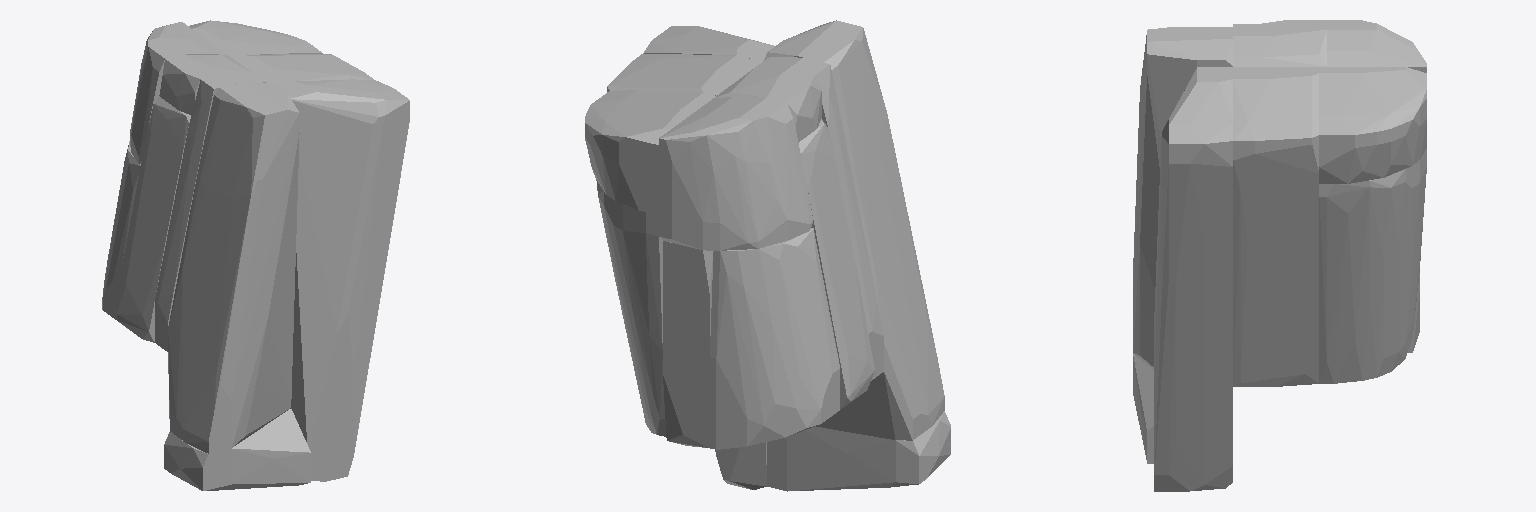
The robot description file, URDF, robot "root":
<robot name="root">
  <link name="link_thingiverse~part_3798626_convex_piece_0">
    <inertial>
      <origin rpy="0 0 0" xyz="0 0 0"/>
      <mass value="5.24E-02"/>
      <inertia ixx="4.52E-05" ixy="-8.72E-06" ixz="1.14E-07" iyy="4.70E-05" iyz="4.52E-06" izz="2.07E-05"/>
    </inertial>
    <visual>
      <origin rpy="0 0 0" xyz="0 0 0"/>
      <geometry>
        <mesh filename="thingiverse~part_3798626_convex_piece_0.obj" scale="1.0000E+00 1.0000E+00 1.0000E+00"/>
      </geometry>
      <material name="">
        <color rgba="7.50E-01 7.50E-01 7.50E-01 1"/>
      </material>
    </visual>
    <collision>
      <origin rpy="0 0 0" xyz="0 0 0"/>
      <geometry>
        <mesh filename="thingiverse~part_3798626_convex_piece_0.obj" scale="1.0000E+00 1.0000E+00 1.0000E+00"/>
      </geometry>
    </collision>
  </link>
  <link name="link_thingiverse~part_3798626_convex_piece_1">
    <inertial>
      <origin rpy="0 0 0" xyz="0 0 0"/>
      <mass value="1.24E-02"/>
      <inertia ixx="3.08E-05" ixy="2.68E-06" ixz="7.21E-06" iyy="3.01E-05" iyz="9.37E-06" izz="6.51E-06"/>
    </inertial>
    <visual>
      <origin rpy="0 0 0" xyz="0 0 0"/>
      <geometry>
        <mesh filename="thingiverse~part_3798626_convex_piece_1.obj" scale="1.0000E+00 1.0000E+00 1.0000E+00"/>
      </geometry>
      <material name="">
        <color rgba="7.50E-01 7.50E-01 7.50E-01 1"/>
      </material>
    </visual>
    <collision>
      <origin rpy="0 0 0" xyz="0 0 0"/>
      <geometry>
        <mesh filename="thingiverse~part_3798626_convex_piece_1.obj" scale="1.0000E+00 1.0000E+00 1.0000E+00"/>
      </geometry>
    </collision>
  </link>
  <joint name="link_thingiverse~part_3798626_convex_piece_1_joint" type="fixed">
    <origin rpy="0 0 0" xyz="0 0 0"/>
    <parent link="link_thingiverse~part_3798626_convex_piece_0"/>
    <child link="link_thingiverse~part_3798626_convex_piece_1"/>
  </joint>
  <link name="link_thingiverse~part_3798626_convex_piece_2">
    <inertial>
      <origin rpy="0 0 0" xyz="0 0 0"/>
      <mass value="6.08E-02"/>
      <inertia ixx="4.52E-05" ixy="9.90E-06" ixz="6.19E-06" iyy="4.14E-05" iyz="3.74E-06" izz="2.45E-05"/>
    </inertial>
    <visual>
      <origin rpy="0 0 0" xyz="0 0 0"/>
      <geometry>
        <mesh filename="thingiverse~part_3798626_convex_piece_2.obj" scale="1.0000E+00 1.0000E+00 1.0000E+00"/>
      </geometry>
      <material name="">
        <color rgba="7.50E-01 7.50E-01 7.50E-01 1"/>
      </material>
    </visual>
    <collision>
      <origin rpy="0 0 0" xyz="0 0 0"/>
      <geometry>
        <mesh filename="thingiverse~part_3798626_convex_piece_2.obj" scale="1.0000E+00 1.0000E+00 1.0000E+00"/>
      </geometry>
    </collision>
  </link>
  <joint name="link_thingiverse~part_3798626_convex_piece_2_joint" type="fixed">
    <origin rpy="0 0 0" xyz="0 0 0"/>
    <parent link="link_thingiverse~part_3798626_convex_piece_1"/>
    <child link="link_thingiverse~part_3798626_convex_piece_2"/>
  </joint>
  <link name="link_thingiverse~part_3798626_convex_piece_3">
    <inertial>
      <origin rpy="0 0 0" xyz="0 0 0"/>
      <mass value="4.63E-02"/>
      <inertia ixx="2.02E-05" ixy="2.22E-06" ixz="5.38E-06" iyy="2.80E-05" iyz="1.48E-06" izz="1.15E-05"/>
    </inertial>
    <visual>
      <origin rpy="0 0 0" xyz="0 0 0"/>
      <geometry>
        <mesh filename="thingiverse~part_3798626_convex_piece_3.obj" scale="1.0000E+00 1.0000E+00 1.0000E+00"/>
      </geometry>
      <material name="">
        <color rgba="7.50E-01 7.50E-01 7.50E-01 1"/>
      </material>
    </visual>
    <collision>
      <origin rpy="0 0 0" xyz="0 0 0"/>
      <geometry>
        <mesh filename="thingiverse~part_3798626_convex_piece_3.obj" scale="1.0000E+00 1.0000E+00 1.0000E+00"/>
      </geometry>
    </collision>
  </link>
  <joint name="link_thingiverse~part_3798626_convex_piece_3_joint" type="fixed">
    <origin rpy="0 0 0" xyz="0 0 0"/>
    <parent link="link_thingiverse~part_3798626_convex_piece_2"/>
    <child link="link_thingiverse~part_3798626_convex_piece_3"/>
  </joint>
  <link name="link_thingiverse~part_3798626_convex_piece_4">
    <inertial>
      <origin rpy="0 0 0" xyz="0 0 0"/>
      <mass value="1.68E-02"/>
      <inertia ixx="6.30E-06" ixy="3.28E-07" ixz="-2.05E-07" iyy="8.62E-06" iyz="-1.26E-07" izz="2.56E-06"/>
    </inertial>
    <visual>
      <origin rpy="0 0 0" xyz="0 0 0"/>
      <geometry>
        <mesh filename="thingiverse~part_3798626_convex_piece_4.obj" scale="1.0000E+00 1.0000E+00 1.0000E+00"/>
      </geometry>
      <material name="">
        <color rgba="7.50E-01 7.50E-01 7.50E-01 1"/>
      </material>
    </visual>
    <collision>
      <origin rpy="0 0 0" xyz="0 0 0"/>
      <geometry>
        <mesh filename="thingiverse~part_3798626_convex_piece_4.obj" scale="1.0000E+00 1.0000E+00 1.0000E+00"/>
      </geometry>
    </collision>
  </link>
  <joint name="link_thingiverse~part_3798626_convex_piece_4_joint" type="fixed">
    <origin rpy="0 0 0" xyz="0 0 0"/>
    <parent link="link_thingiverse~part_3798626_convex_piece_3"/>
    <child link="link_thingiverse~part_3798626_convex_piece_4"/>
  </joint>
  <link name="link_thingiverse~part_3798626_convex_piece_5">
    <inertial>
      <origin rpy="0 0 0" xyz="0 0 0"/>
      <mass value="1.47E-02"/>
      <inertia ixx="2.10E-05" ixy="-2.56E-06" ixz="-2.99E-06" iyy="1.31E-05" iyz="9.77E-06" izz="1.05E-05"/>
    </inertial>
    <visual>
      <origin rpy="0 0 0" xyz="0 0 0"/>
      <geometry>
        <mesh filename="thingiverse~part_3798626_convex_piece_5.obj" scale="1.0000E+00 1.0000E+00 1.0000E+00"/>
      </geometry>
      <material name="">
        <color rgba="7.50E-01 7.50E-01 7.50E-01 1"/>
      </material>
    </visual>
    <collision>
      <origin rpy="0 0 0" xyz="0 0 0"/>
      <geometry>
        <mesh filename="thingiverse~part_3798626_convex_piece_5.obj" scale="1.0000E+00 1.0000E+00 1.0000E+00"/>
      </geometry>
    </collision>
  </link>
  <joint name="link_thingiverse~part_3798626_convex_piece_5_joint" type="fixed">
    <origin rpy="0 0 0" xyz="0 0 0"/>
    <parent link="link_thingiverse~part_3798626_convex_piece_4"/>
    <child link="link_thingiverse~part_3798626_convex_piece_5"/>
  </joint>
  <link name="link_thingiverse~part_3798626_convex_piece_6">
    <inertial>
      <origin rpy="0 0 0" xyz="0 0 0"/>
      <mass value="2.22E-02"/>
      <inertia ixx="1.82E-05" ixy="5.66E-06" ixz="6.19E-08" iyy="8.09E-06" iyz="-8.19E-07" izz="1.70E-05"/>
    </inertial>
    <visual>
      <origin rpy="0 0 0" xyz="0 0 0"/>
      <geometry>
        <mesh filename="thingiverse~part_3798626_convex_piece_6.obj" scale="1.0000E+00 1.0000E+00 1.0000E+00"/>
      </geometry>
      <material name="">
        <color rgba="7.50E-01 7.50E-01 7.50E-01 1"/>
      </material>
    </visual>
    <collision>
      <origin rpy="0 0 0" xyz="0 0 0"/>
      <geometry>
        <mesh filename="thingiverse~part_3798626_convex_piece_6.obj" scale="1.0000E+00 1.0000E+00 1.0000E+00"/>
      </geometry>
    </collision>
  </link>
  <joint name="link_thingiverse~part_3798626_convex_piece_6_joint" type="fixed">
    <origin rpy="0 0 0" xyz="0 0 0"/>
    <parent link="link_thingiverse~part_3798626_convex_piece_5"/>
    <child link="link_thingiverse~part_3798626_convex_piece_6"/>
  </joint>
  <link name="link_thingiverse~part_3798626_convex_piece_7">
    <inertial>
      <origin rpy="0 0 0" xyz="0 0 0"/>
      <mass value="1.21E-02"/>
      <inertia ixx="1.80E-05" ixy="3.55E-06" ixz="4.38E-06" iyy="1.29E-05" iyz="8.47E-06" izz="9.95E-06"/>
    </inertial>
    <visual>
      <origin rpy="0 0 0" xyz="0 0 0"/>
      <geometry>
        <mesh filename="thingiverse~part_3798626_convex_piece_7.obj" scale="1.0000E+00 1.0000E+00 1.0000E+00"/>
      </geometry>
      <material name="">
        <color rgba="7.50E-01 7.50E-01 7.50E-01 1"/>
      </material>
    </visual>
    <collision>
      <origin rpy="0 0 0" xyz="0 0 0"/>
      <geometry>
        <mesh filename="thingiverse~part_3798626_convex_piece_7.obj" scale="1.0000E+00 1.0000E+00 1.0000E+00"/>
      </geometry>
    </collision>
  </link>
  <joint name="link_thingiverse~part_3798626_convex_piece_7_joint" type="fixed">
    <origin rpy="0 0 0" xyz="0 0 0"/>
    <parent link="link_thingiverse~part_3798626_convex_piece_6"/>
    <child link="link_thingiverse~part_3798626_convex_piece_7"/>
  </joint>
  <link name="link_thingiverse~part_3798626_convex_piece_8">
    <inertial>
      <origin rpy="0 0 0" xyz="0 0 0"/>
      <mass value="1.45E-02"/>
      <inertia ixx="4.94E-06" ixy="-1.92E-06" ixz="-4.11E-07" iyy="8.72E-06" iyz="5.16E-07" izz="5.77E-06"/>
    </inertial>
    <visual>
      <origin rpy="0 0 0" xyz="0 0 0"/>
      <geometry>
        <mesh filename="thingiverse~part_3798626_convex_piece_8.obj" scale="1.0000E+00 1.0000E+00 1.0000E+00"/>
      </geometry>
      <material name="">
        <color rgba="7.50E-01 7.50E-01 7.50E-01 1"/>
      </material>
    </visual>
    <collision>
      <origin rpy="0 0 0" xyz="0 0 0"/>
      <geometry>
        <mesh filename="thingiverse~part_3798626_convex_piece_8.obj" scale="1.0000E+00 1.0000E+00 1.0000E+00"/>
      </geometry>
    </collision>
  </link>
  <joint name="link_thingiverse~part_3798626_convex_piece_8_joint" type="fixed">
    <origin rpy="0 0 0" xyz="0 0 0"/>
    <parent link="link_thingiverse~part_3798626_convex_piece_7"/>
    <child link="link_thingiverse~part_3798626_convex_piece_8"/>
  </joint>
  <link name="link_thingiverse~part_3798626_convex_piece_9">
    <inertial>
      <origin rpy="0 0 0" xyz="0 0 0"/>
      <mass value="3.72E-03"/>
      <inertia ixx="5.13E-06" ixy="-2.30E-07" ixz="-1.03E-06" iyy="5.15E-06" iyz="1.06E-06" izz="5.99E-07"/>
    </inertial>
    <visual>
      <origin rpy="0 0 0" xyz="0 0 0"/>
      <geometry>
        <mesh filename="thingiverse~part_3798626_convex_piece_9.obj" scale="1.0000E+00 1.0000E+00 1.0000E+00"/>
      </geometry>
      <material name="">
        <color rgba="7.50E-01 7.50E-01 7.50E-01 1"/>
      </material>
    </visual>
    <collision>
      <origin rpy="0 0 0" xyz="0 0 0"/>
      <geometry>
        <mesh filename="thingiverse~part_3798626_convex_piece_9.obj" scale="1.0000E+00 1.0000E+00 1.0000E+00"/>
      </geometry>
    </collision>
  </link>
  <joint name="link_thingiverse~part_3798626_convex_piece_9_joint" type="fixed">
    <origin rpy="0 0 0" xyz="0 0 0"/>
    <parent link="link_thingiverse~part_3798626_convex_piece_8"/>
    <child link="link_thingiverse~part_3798626_convex_piece_9"/>
  </joint>
  <link name="link_thingiverse~part_3798626_convex_piece_10">
    <inertial>
      <origin rpy="0 0 0" xyz="0 0 0"/>
      <mass value="1.47E-02"/>
      <inertia ixx="1.16E-05" ixy="-5.82E-06" ixz="1.80E-06" iyy="6.98E-06" iyz="-2.49E-06" izz="1.35E-05"/>
    </inertial>
    <visual>
      <origin rpy="0 0 0" xyz="0 0 0"/>
      <geometry>
        <mesh filename="thingiverse~part_3798626_convex_piece_10.obj" scale="1.0000E+00 1.0000E+00 1.0000E+00"/>
      </geometry>
      <material name="">
        <color rgba="7.50E-01 7.50E-01 7.50E-01 1"/>
      </material>
    </visual>
    <collision>
      <origin rpy="0 0 0" xyz="0 0 0"/>
      <geometry>
        <mesh filename="thingiverse~part_3798626_convex_piece_10.obj" scale="1.0000E+00 1.0000E+00 1.0000E+00"/>
      </geometry>
    </collision>
  </link>
  <joint name="link_thingiverse~part_3798626_convex_piece_10_joint" type="fixed">
    <origin rpy="0 0 0" xyz="0 0 0"/>
    <parent link="link_thingiverse~part_3798626_convex_piece_9"/>
    <child link="link_thingiverse~part_3798626_convex_piece_10"/>
  </joint>
  <link name="link_thingiverse~part_3798626_convex_piece_11">
    <inertial>
      <origin rpy="0 0 0" xyz="0 0 0"/>
      <mass value="6.62E-03"/>
      <inertia ixx="7.63E-06" ixy="-6.84E-07" ixz="1.34E-07" iyy="1.49E-06" iyz="-1.47E-06" izz="6.41E-06"/>
    </inertial>
    <visual>
      <origin rpy="0 0 0" xyz="0 0 0"/>
      <geometry>
        <mesh filename="thingiverse~part_3798626_convex_piece_11.obj" scale="1.0000E+00 1.0000E+00 1.0000E+00"/>
      </geometry>
      <material name="">
        <color rgba="7.50E-01 7.50E-01 7.50E-01 1"/>
      </material>
    </visual>
    <collision>
      <origin rpy="0 0 0" xyz="0 0 0"/>
      <geometry>
        <mesh filename="thingiverse~part_3798626_convex_piece_11.obj" scale="1.0000E+00 1.0000E+00 1.0000E+00"/>
      </geometry>
    </collision>
  </link>
  <joint name="link_thingiverse~part_3798626_convex_piece_11_joint" type="fixed">
    <origin rpy="0 0 0" xyz="0 0 0"/>
    <parent link="link_thingiverse~part_3798626_convex_piece_10"/>
    <child link="link_thingiverse~part_3798626_convex_piece_11"/>
  </joint>
</robot>

--- What the picture shows (computed from the rendered views, not written in the file) ---
The picture shows the robot from 3 angles, left to right: view 1: azimuth 30°, elevation 25°; view 2: azimuth 150°, elevation 25°; view 3: azimuth 270°, elevation 25°; orthographic projection.
Robot: root — 12 links, 11 joints (11 fixed); root link link_thingiverse~part_3798626_convex_piece_0; default pose: all joints at 0.
Visible links, largest first — view 1: link_thingiverse~part_3798626_convex_piece_2, link_thingiverse~part_3798626_convex_piece_0, link_thingiverse~part_3798626_convex_piece_8, link_thingiverse~part_3798626_convex_piece_1, link_thingiverse~part_3798626_convex_piece_4, link_thingiverse~part_3798626_convex_piece_5, link_thingiverse~part_3798626_convex_piece_3, link_thingiverse~part_3798626_convex_piece_7, link_thingiverse~part_3798626_convex_piece_9, link_thingiverse~part_3798626_convex_piece_10; view 2: link_thingiverse~part_3798626_convex_piece_2, link_thingiverse~part_3798626_convex_piece_10, link_thingiverse~part_3798626_convex_piece_5, link_thingiverse~part_3798626_convex_piece_1, link_thingiverse~part_3798626_convex_piece_11, link_thingiverse~part_3798626_convex_piece_8, link_thingiverse~part_3798626_convex_piece_7, link_thingiverse~part_3798626_convex_piece_6, link_thingiverse~part_3798626_convex_piece_4, link_thingiverse~part_3798626_convex_piece_0, link_thingiverse~part_3798626_convex_piece_3, link_thingiverse~part_3798626_convex_piece_9; view 3: link_thingiverse~part_3798626_convex_piece_0, link_thingiverse~part_3798626_convex_piece_3, link_thingiverse~part_3798626_convex_piece_6, link_thingiverse~part_3798626_convex_piece_7, link_thingiverse~part_3798626_convex_piece_2, link_thingiverse~part_3798626_convex_piece_5, link_thingiverse~part_3798626_convex_piece_9, link_thingiverse~part_3798626_convex_piece_1, link_thingiverse~part_3798626_convex_piece_4.
Boxes of the visible links, x1,y1,x2,y2 form: link_thingiverse~part_3798626_convex_piece_2: (168, 82, 299, 453); link_thingiverse~part_3798626_convex_piece_0: (277, 79, 409, 481); link_thingiverse~part_3798626_convex_piece_8: (113, 96, 190, 342); link_thingiverse~part_3798626_convex_piece_1: (164, 409, 310, 490); link_thingiverse~part_3798626_convex_piece_4: (155, 73, 265, 351); link_thingiverse~part_3798626_convex_piece_5: (130, 22, 226, 163); link_thingiverse~part_3798626_convex_piece_3: (233, 54, 373, 84); link_thingiverse~part_3798626_convex_piece_7: (189, 20, 322, 57); link_thingiverse~part_3798626_convex_piece_9: (159, 55, 251, 114); link_thingiverse~part_3798626_convex_piece_10: (102, 141, 140, 319); link_thingiverse~part_3798626_convex_piece_2: (764, 20, 944, 440); link_thingiverse~part_3798626_convex_piece_10: (710, 228, 839, 449); link_thingiverse~part_3798626_convex_piece_5: (659, 97, 812, 250); link_thingiverse~part_3798626_convex_piece_1: (767, 411, 950, 491); link_thingiverse~part_3798626_convex_piece_11: (663, 241, 713, 447); link_thingiverse~part_3798626_convex_piece_8: (799, 119, 874, 409); link_thingiverse~part_3798626_convex_piece_7: (585, 90, 715, 214); link_thingiverse~part_3798626_convex_piece_6: (596, 179, 665, 436); link_thingiverse~part_3798626_convex_piece_4: (755, 57, 883, 380); link_thingiverse~part_3798626_convex_piece_0: (643, 26, 774, 489); link_thingiverse~part_3798626_convex_piece_3: (607, 54, 761, 95); link_thingiverse~part_3798626_convex_piece_9: (713, 68, 821, 142); link_thingiverse~part_3798626_convex_piece_0: (1154, 67, 1232, 491); link_thingiverse~part_3798626_convex_piece_3: (1233, 67, 1318, 386); link_thingiverse~part_3798626_convex_piece_6: (1319, 149, 1426, 383); link_thingiverse~part_3798626_convex_piece_7: (1319, 67, 1426, 183); link_thingiverse~part_3798626_convex_piece_2: (1133, 27, 1232, 369); link_thingiverse~part_3798626_convex_piece_5: (1327, 20, 1426, 72); link_thingiverse~part_3798626_convex_piece_9: (1262, 20, 1326, 66); link_thingiverse~part_3798626_convex_piece_1: (1133, 354, 1153, 463); link_thingiverse~part_3798626_convex_piece_4: (1233, 24, 1261, 66).
Bounding box of the posed robot: 0.0609 × 0.0625 × 0.0975 m (x, y, z).
Meshes: 12 distinct files referenced, 12 mesh visuals loaded (12 OBJ).
